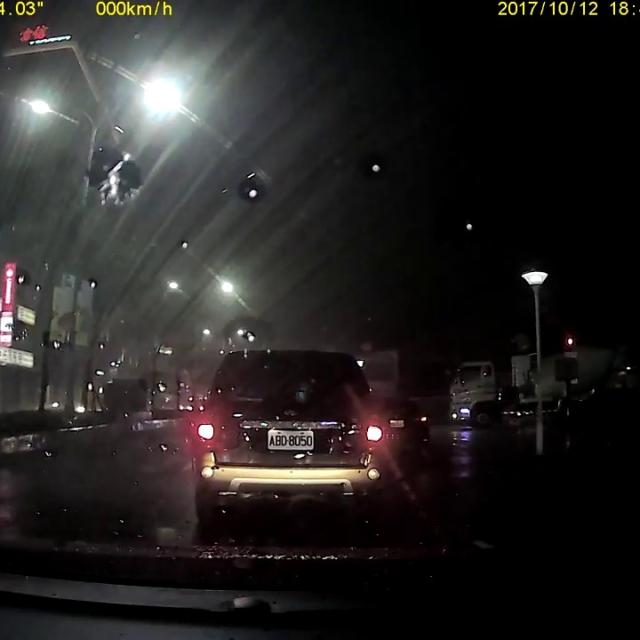Car: (193, 342, 386, 522), (366, 392, 432, 461)
